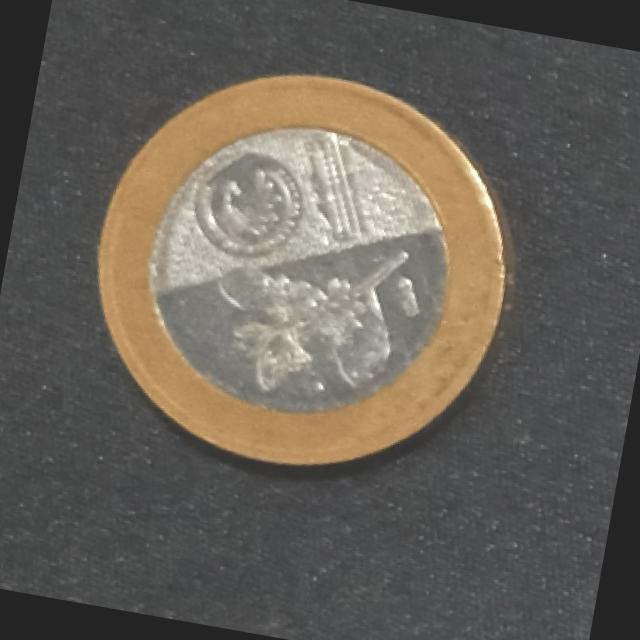20_peso: (98, 76, 511, 462)
